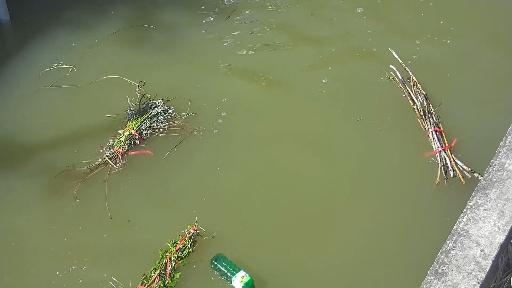plastic: (208, 253, 262, 288)
twig: (37, 21, 165, 196), (379, 51, 479, 189), (139, 222, 196, 288), (212, 0, 253, 24)
